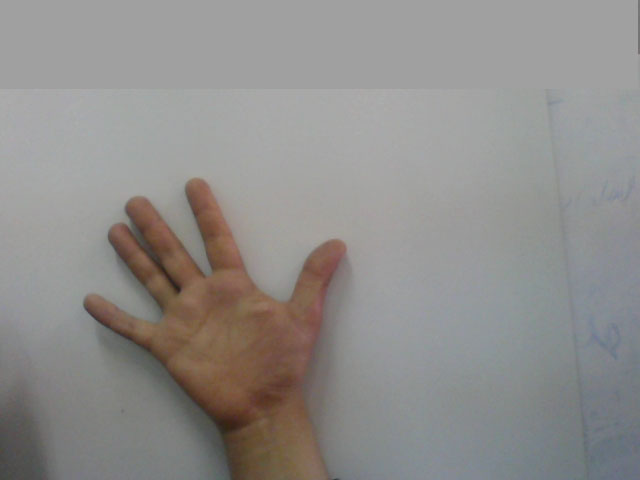hand: (72, 170, 354, 400)
